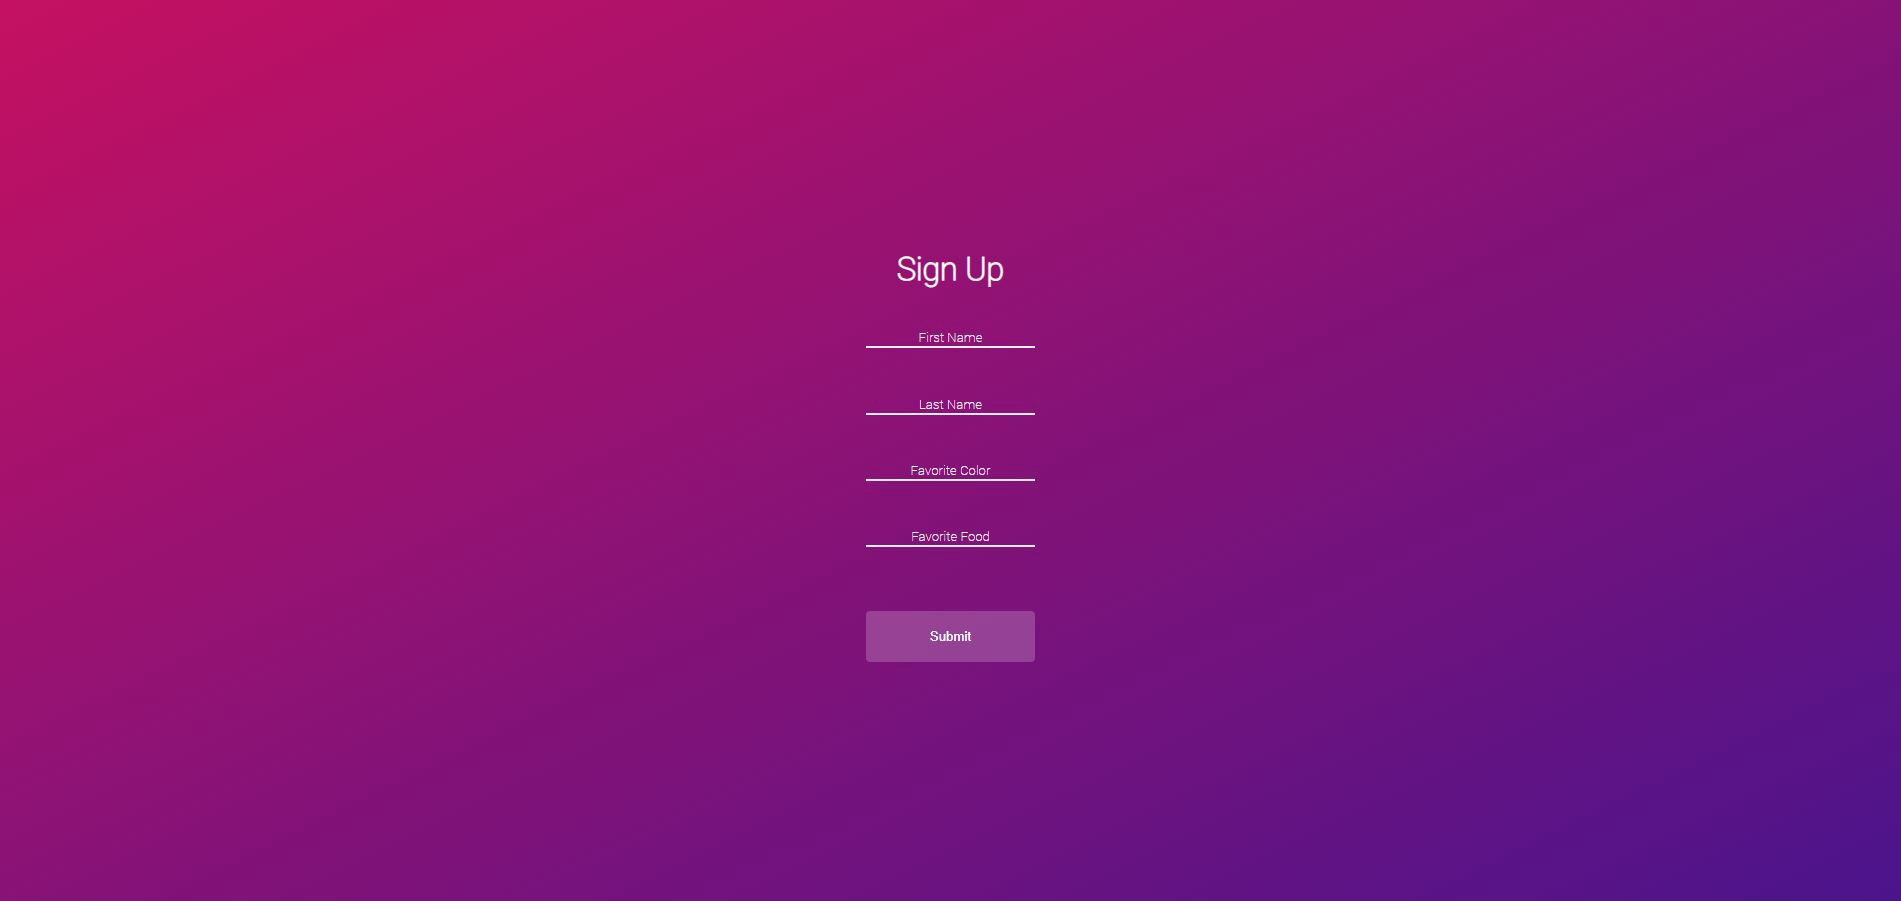_form_: (757, 256, 1174, 672)
button: (862, 608, 1038, 665)
field_line: (860, 312, 1040, 352), (860, 519, 1041, 551), (864, 387, 1044, 418), (864, 456, 1039, 481)
